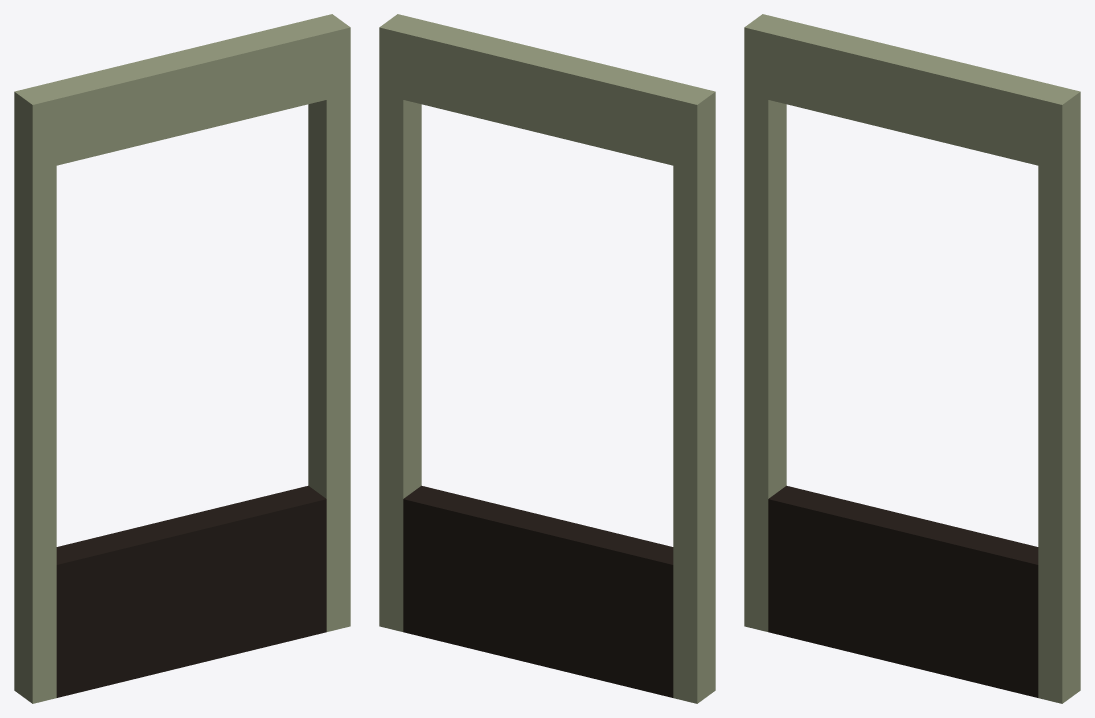
File: Wall_WindowOpening_2m.fbx
The picture shows the model from 3 angles, left to right: view 1: azimuth 30°, elevation 25°; view 2: azimuth 150°, elevation 25°; view 3: azimuth 330°, elevation 25°; orthographic projection.
Parts seen in each view (by area): view 1: Window wall below.001, Window wall pier.002, Window wall above.001, Window wall pier.003; view 2: Window wall below.001, Window wall pier.002, Window wall above.001, Window wall pier.003; view 3: Window wall below.001, Window wall pier.003, Window wall above.001, Window wall pier.002.
Part boxes in pixels (x1=…): Window wall below.001: x1=56, y1=485, x2=326, y2=697; Window wall pier.002: x1=14, y1=86, x2=56, y2=703; Window wall above.001: x1=38, y1=20, x2=326, y2=165; Window wall pier.003: x1=308, y1=14, x2=350, y2=631; Window wall below.001: x1=403, y1=485, x2=673, y2=697; Window wall pier.002: x1=673, y1=86, x2=715, y2=703; Window wall above.001: x1=403, y1=20, x2=691, y2=165; Window wall pier.003: x1=379, y1=14, x2=421, y2=631; Window wall below.001: x1=768, y1=485, x2=1038, y2=697; Window wall pier.003: x1=1038, y1=86, x2=1080, y2=703; Window wall above.001: x1=768, y1=20, x2=1056, y2=165; Window wall pier.002: x1=744, y1=14, x2=786, y2=631.
Size of the model in its own units: 2 by 3.6 by 0.2.
